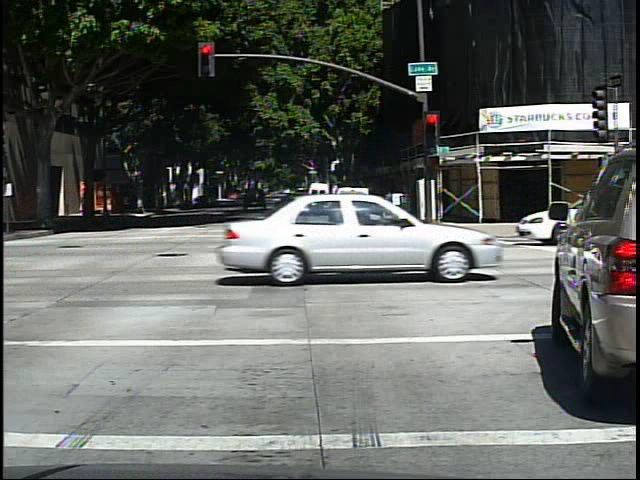person: (75, 186, 91, 220)
